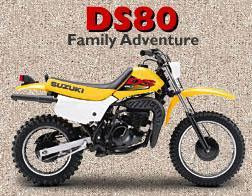motorcycle: (6, 48, 251, 194)
